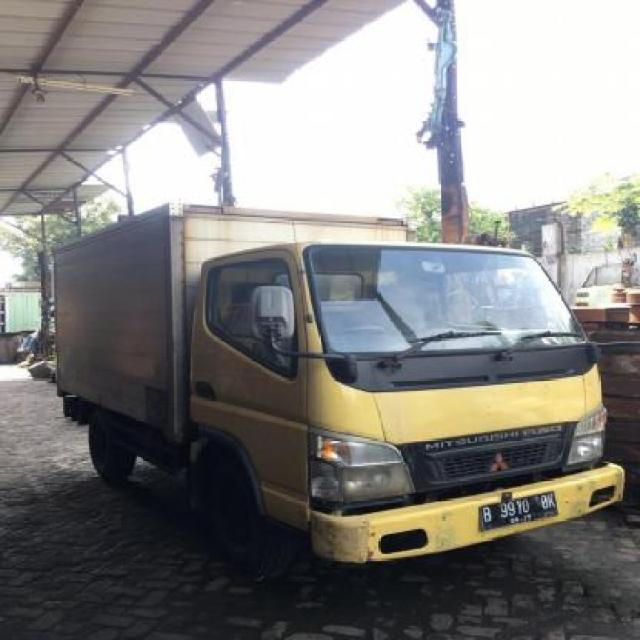truck: (52, 203, 640, 567)
